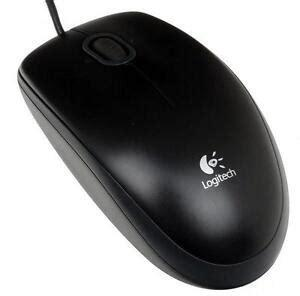computer mouse: (18, 12, 290, 291)
